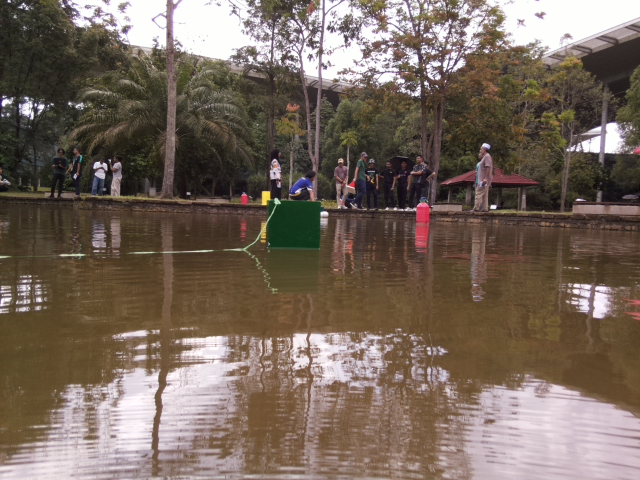obstacle: (266, 200, 321, 250)
